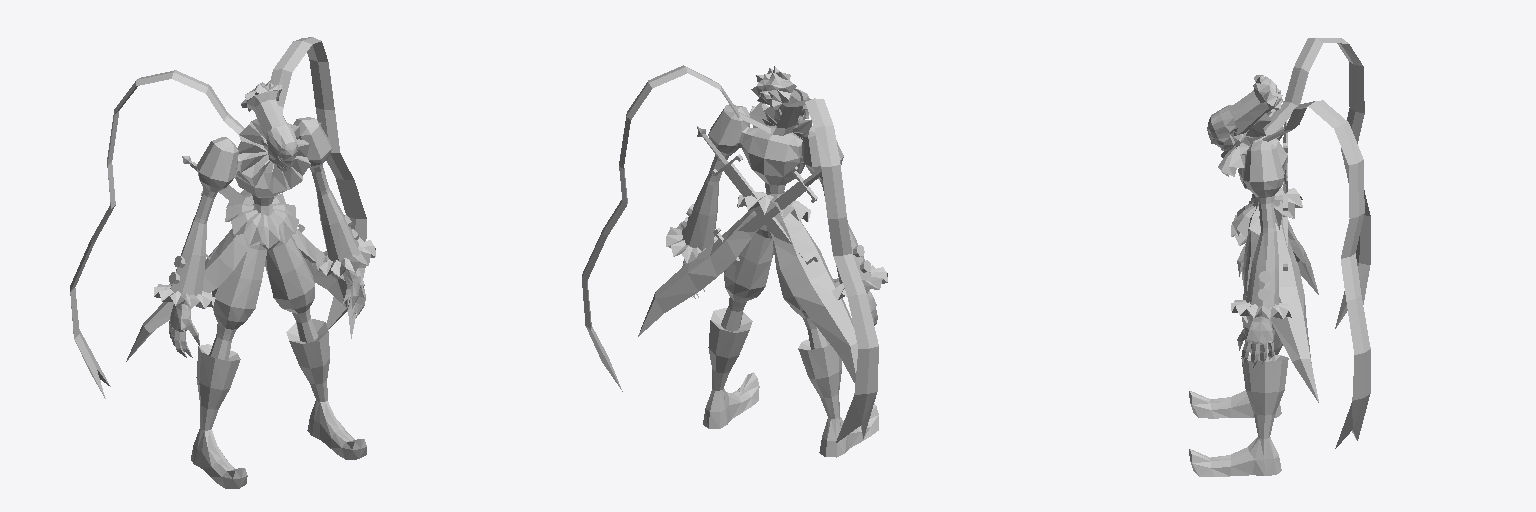
File: ChaosPiedmon.dd12e8ea.obj
3 views of the same model, side by side, from view 1: azimuth 30°, elevation 25°; view 2: azimuth 150°, elevation 25°; view 3: azimuth 270°, elevation 25° (orthographic).
Size of the model in its own units: 2.62 by 3.14 by 1.39.